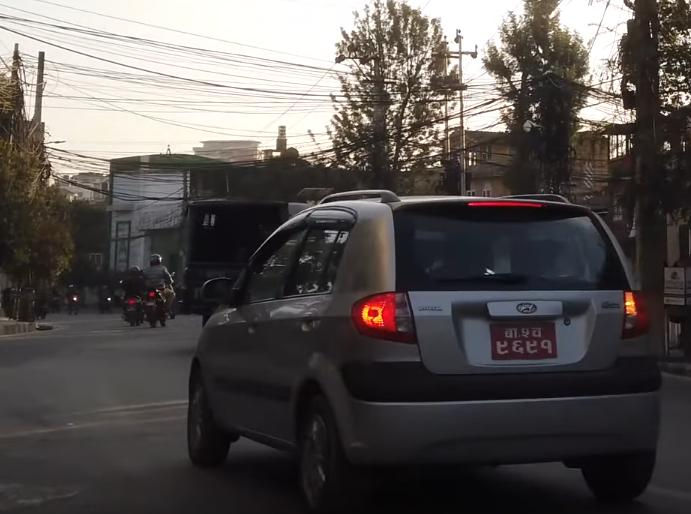car: (184, 174, 674, 504)
